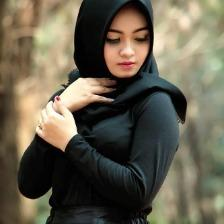Non Syar-i: (61, 0, 189, 126)
